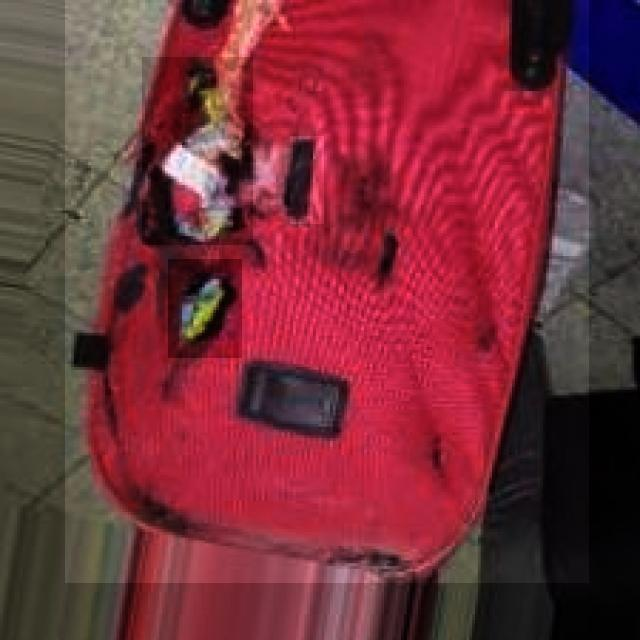Suitcase: (78, 0, 564, 580)
